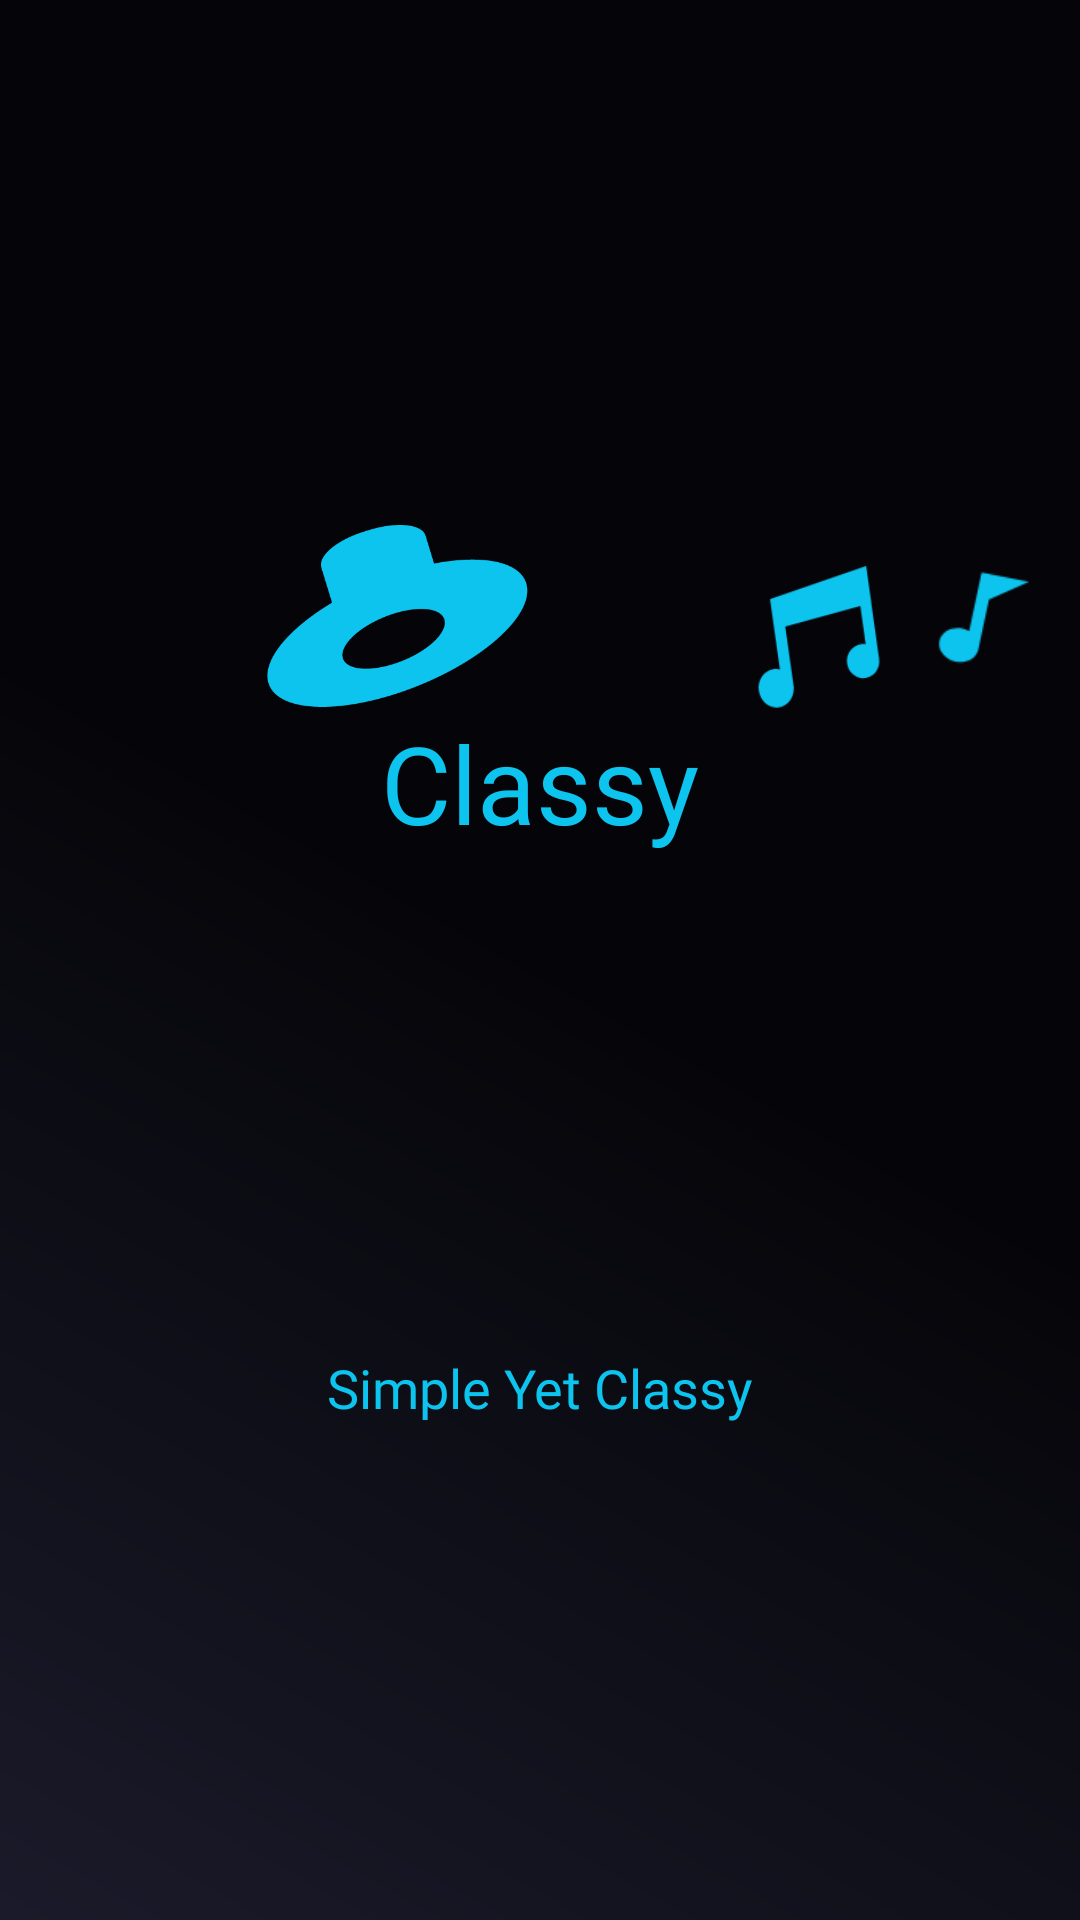

Screen size 1080 x 1920. Icon name, then its center in pixels as [x,y]:
hat: [397,616]
